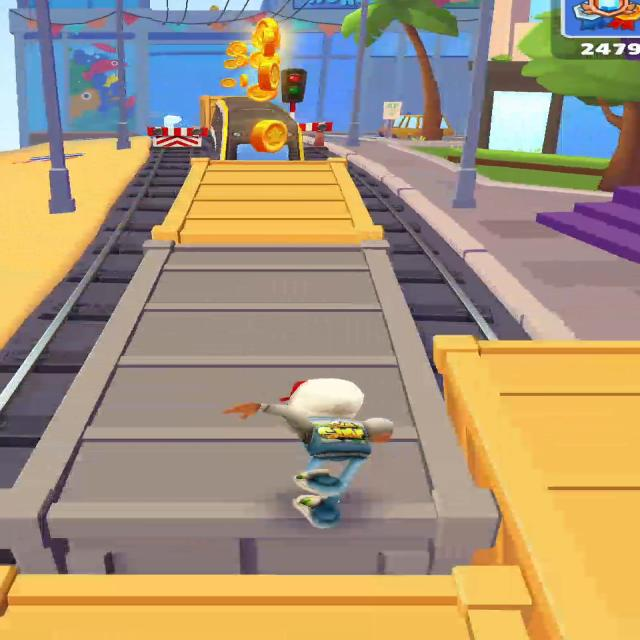blocker: (299, 122, 332, 146)
roll blocker: (147, 127, 207, 148)
train: (201, 97, 303, 160)
